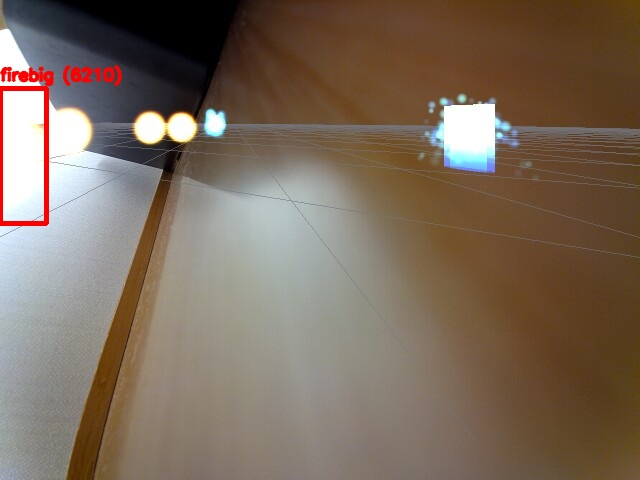firebig: (0, 88, 46, 223)
